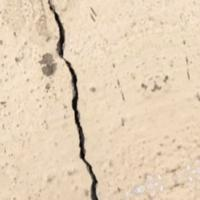crack: (34, 0, 109, 199)
